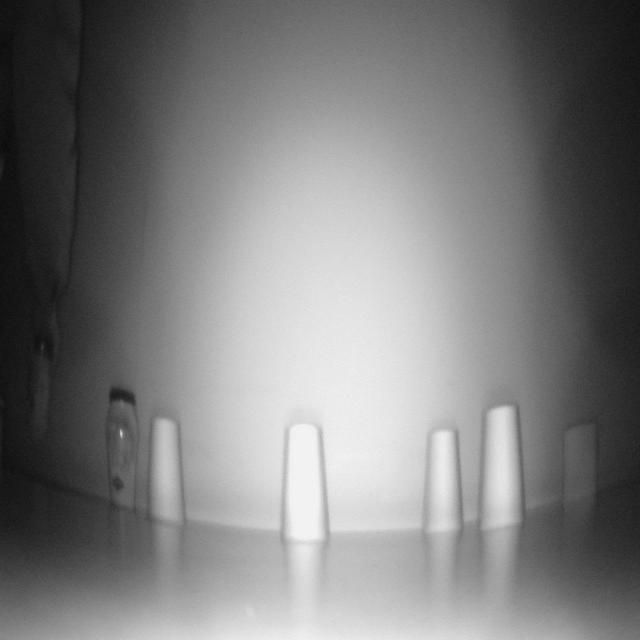targets: (478, 402, 531, 532), (284, 421, 328, 543), (147, 412, 188, 530), (425, 424, 465, 538), (107, 384, 139, 509), (560, 417, 598, 508), (29, 328, 55, 441)
